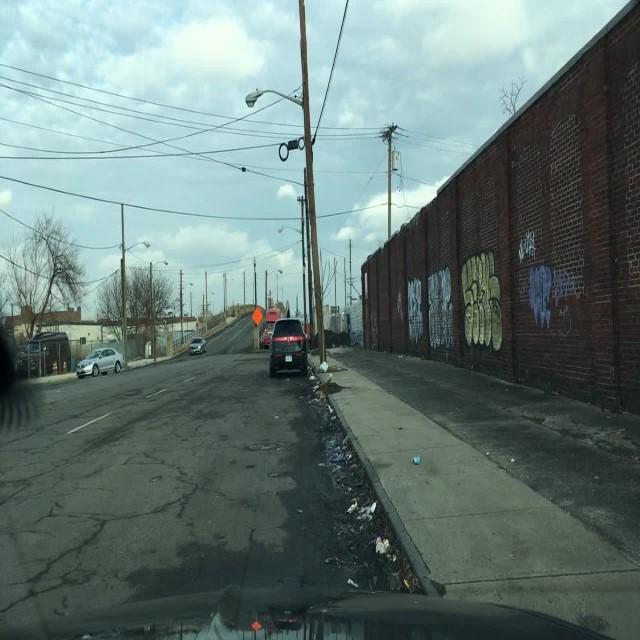normal: (266, 320, 306, 379), (76, 346, 126, 376), (187, 338, 205, 355)
